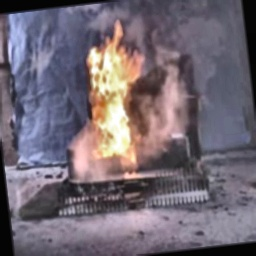fire: (71, 16, 161, 171)
